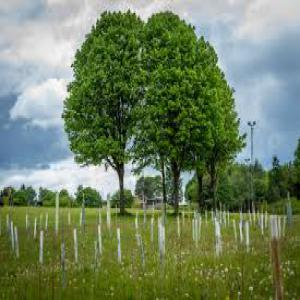Tree: (141, 3, 243, 216), (58, 5, 158, 218)
